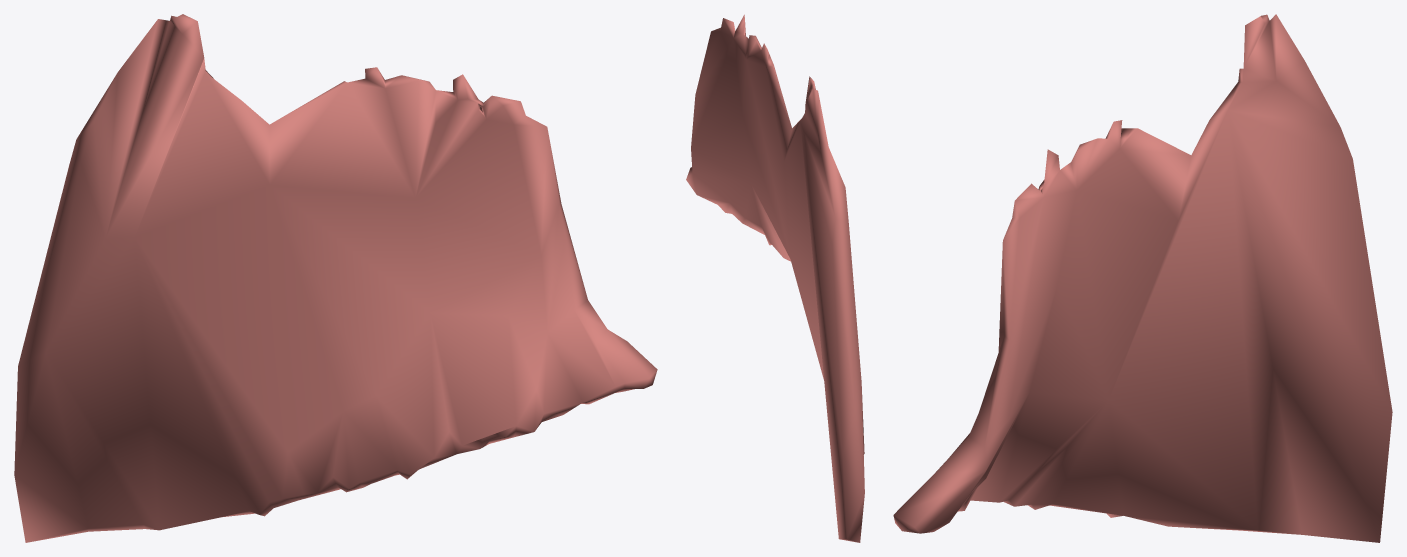
The picture shows the model from 3 angles, left to right: view 1: azimuth 30°, elevation 25°; view 2: azimuth 150°, elevation 25°; view 3: azimuth 270°, elevation 25°; orthographic projection. The views are drawn at different scales.
Parts seen in each view (by area): view 1: ZA_ffa1378d13a3a0ee; view 2: ZA_ffa1378d13a3a0ee; view 3: ZA_ffa1378d13a3a0ee.
Part boxes in pixels (x1=…): ZA_ffa1378d13a3a0ee: x1=14, y1=14, x2=657, y2=542; ZA_ffa1378d13a3a0ee: x1=686, y1=14, x2=864, y2=542; ZA_ffa1378d13a3a0ee: x1=893, y1=14, x2=1392, y2=542.
Bounding box in the file's own units: 0.017 × 0.02 × 0.0156.
